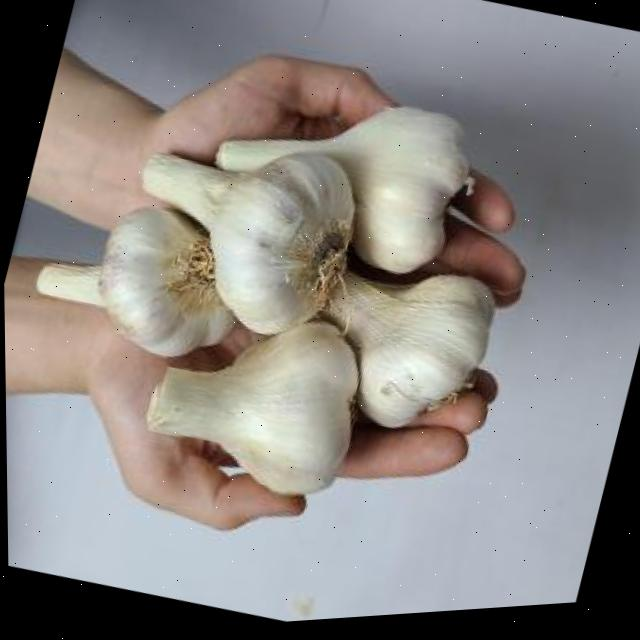Wet: (192, 47, 485, 305), (106, 108, 379, 366), (129, 271, 386, 521), (8, 170, 261, 384), (281, 236, 512, 460)
